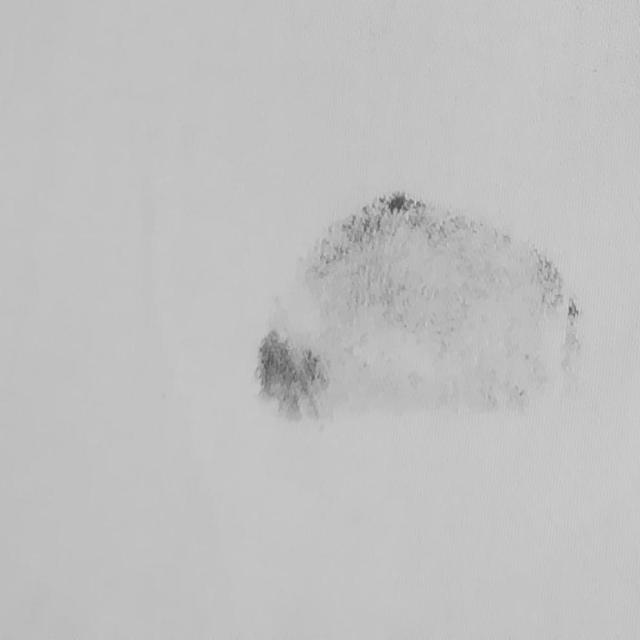Stain: (252, 182, 585, 426)
